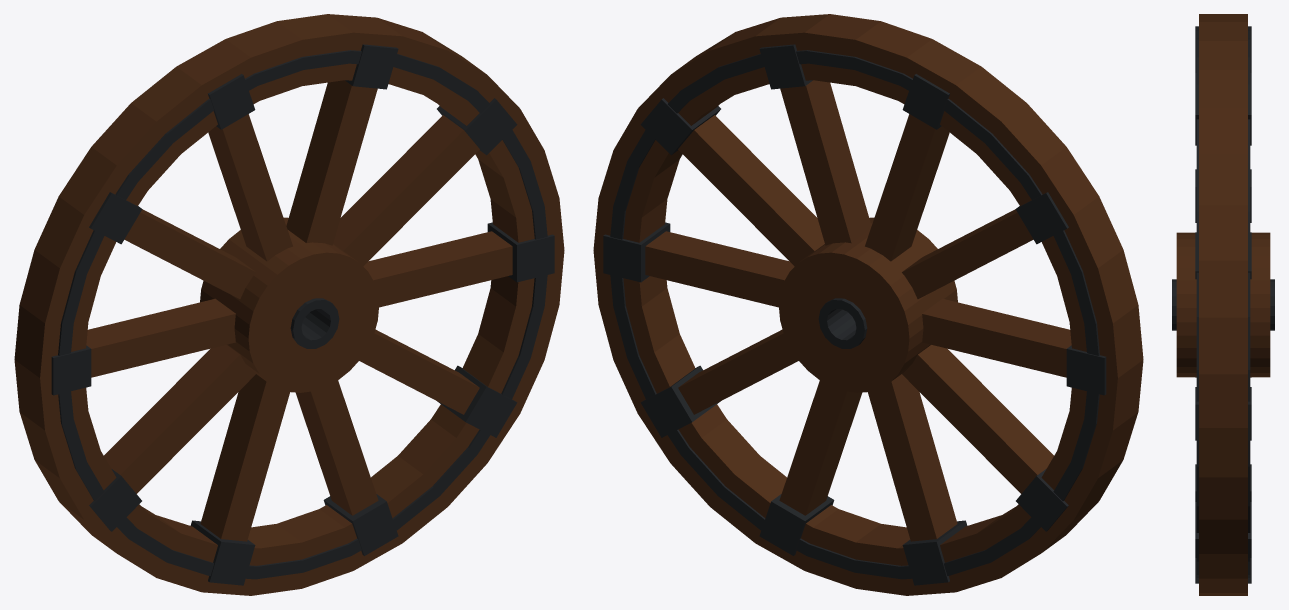
File: wheel_LOD0.obj
3 renders of one model, left to right at view 1: azimuth 30°, elevation 25°; view 2: azimuth 150°, elevation 25°; view 3: azimuth 270°, elevation 25°, orthographic. The views are drawn at different scales.
Parts seen in each view (by area): view 1: VelegRadWagonWheel1348; view 2: VelegRadWagonWheel1348; view 3: VelegRadWagonWheel1348.
Boxes of the visible parts, left/top/right/bottom form: VelegRadWagonWheel1348: left=14, top=14, right=564, bottom=595; VelegRadWagonWheel1348: left=593, top=14, right=1143, bottom=595; VelegRadWagonWheel1348: left=1172, top=14, right=1274, bottom=595.
Size of the model in its own units: 1.25 by 1.25 by 0.22.
